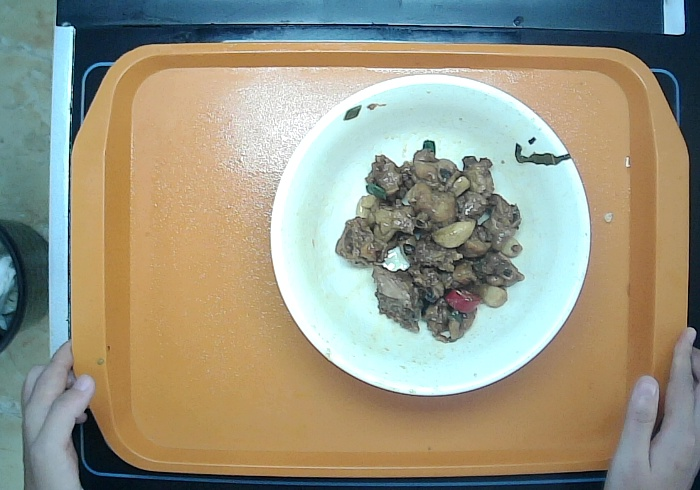ZNLD-Da_Tang_Wan: (268, 74, 593, 397)
